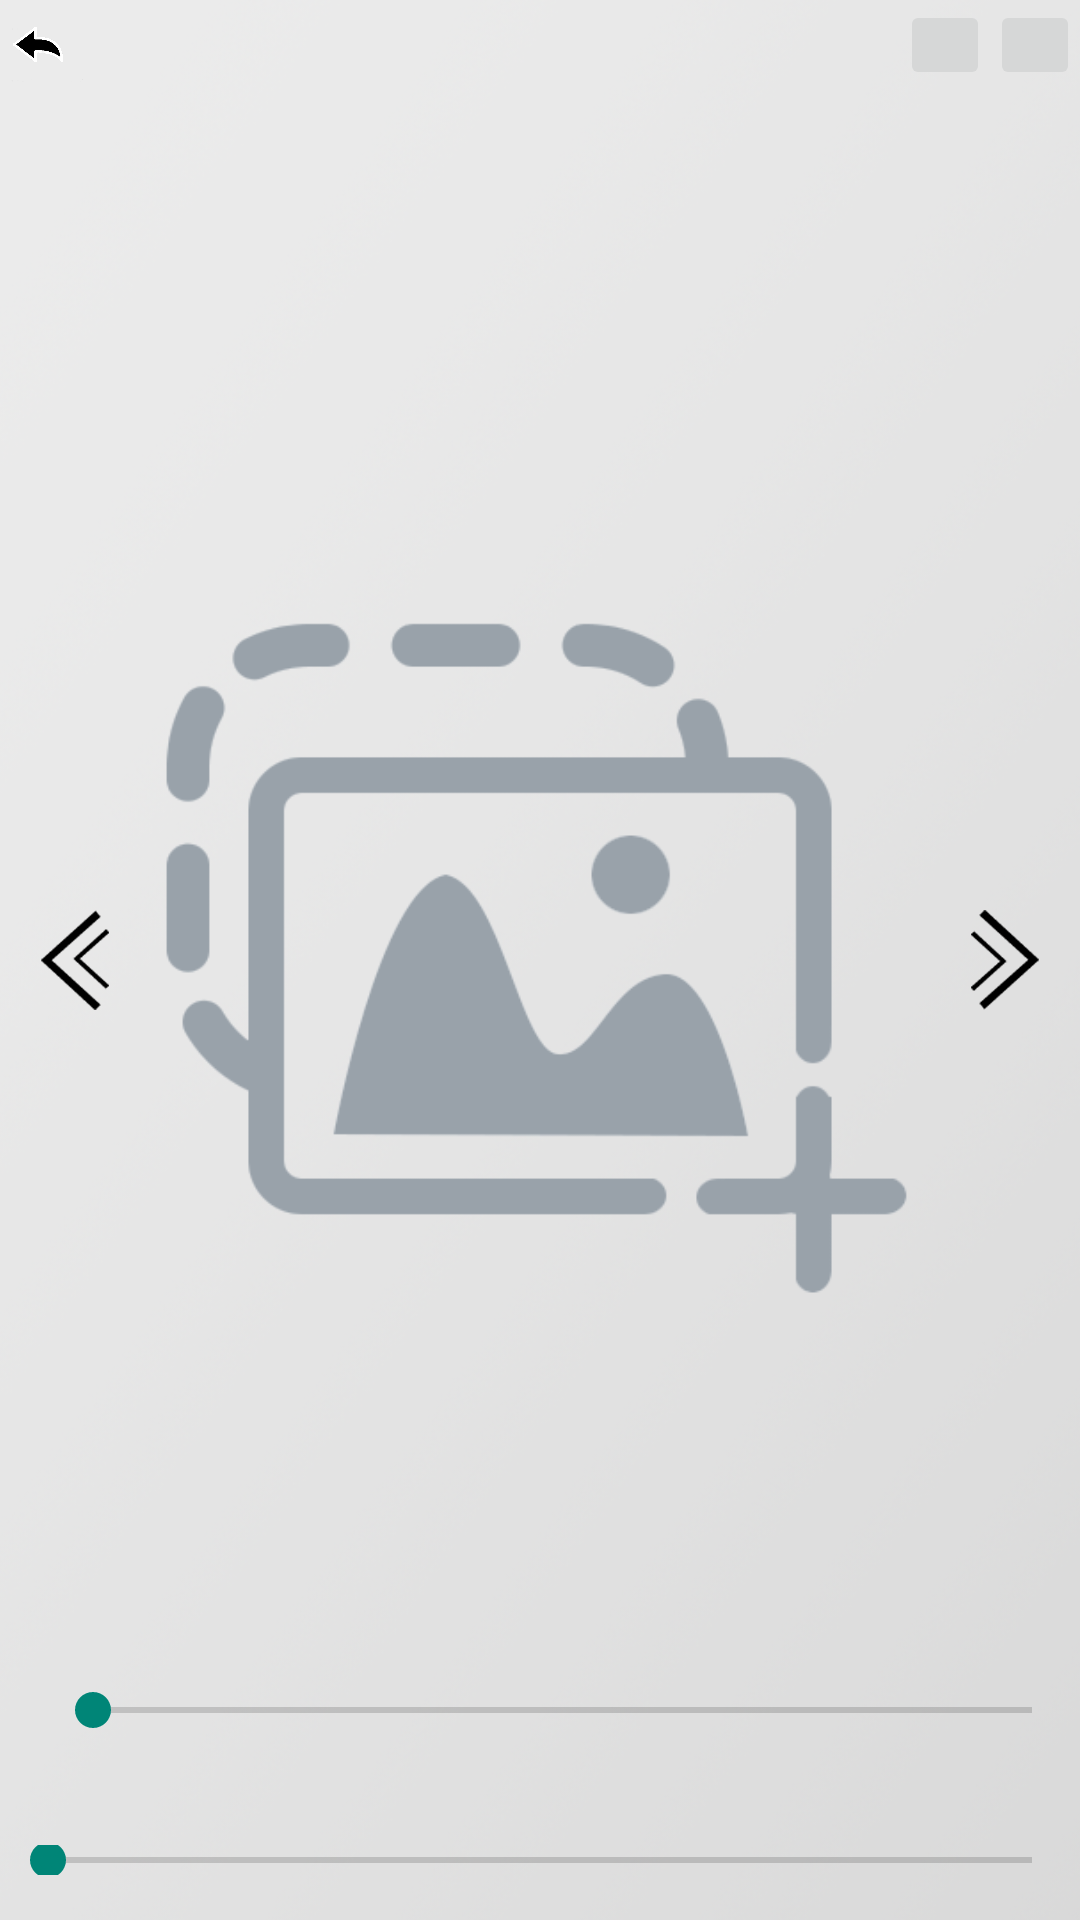

Where icons sit on this 1080w x 1920h app screen, as box=[x1, y1, x2, y2]:
left: box=[41, 910, 109, 1010]
right: box=[971, 910, 1039, 1010]
